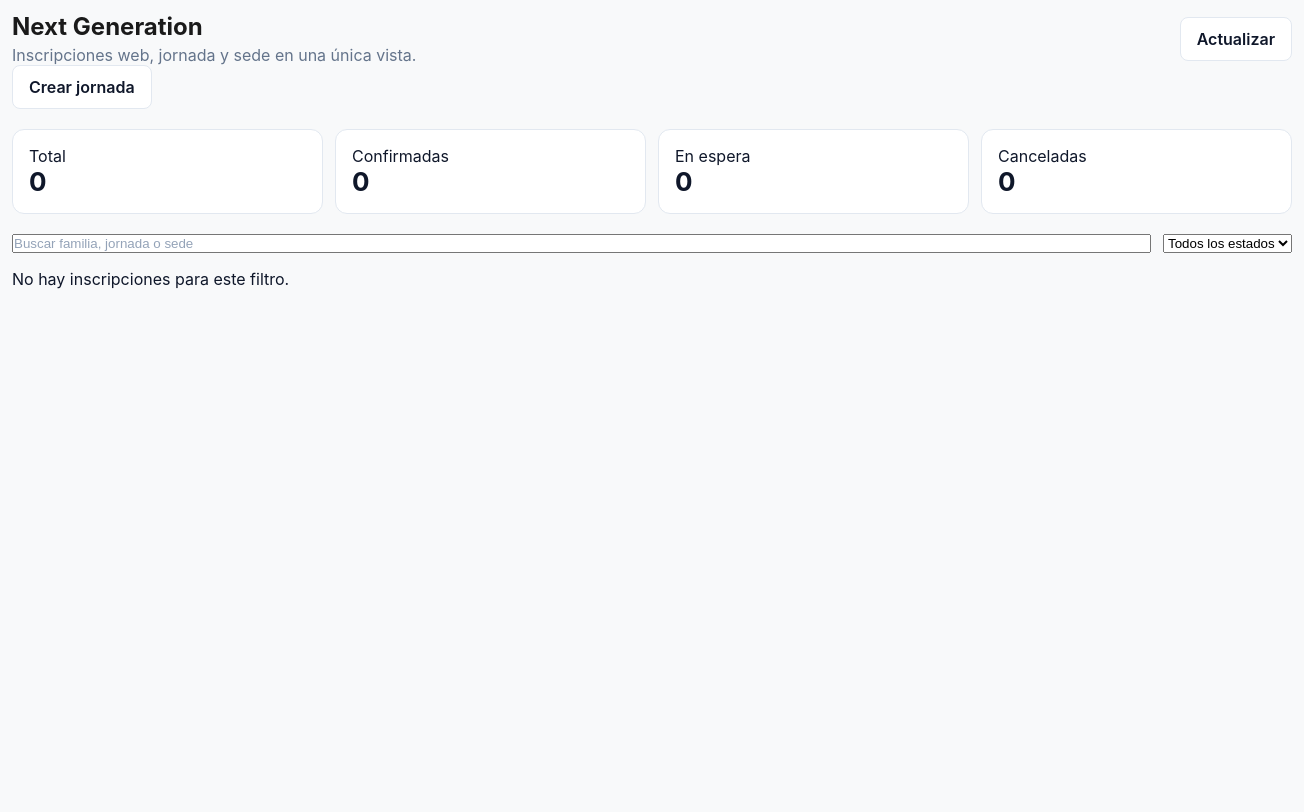
Test: error o respuesta sin ID conserva inputs sin falso éxito
Expected: the button "Actualizar" is shown, x1=1180 y1=16 x2=1292 y2=60
Click the button "Crear jornada". click: (82, 87)
box: x1=12 y1=65 x2=152 y2=109
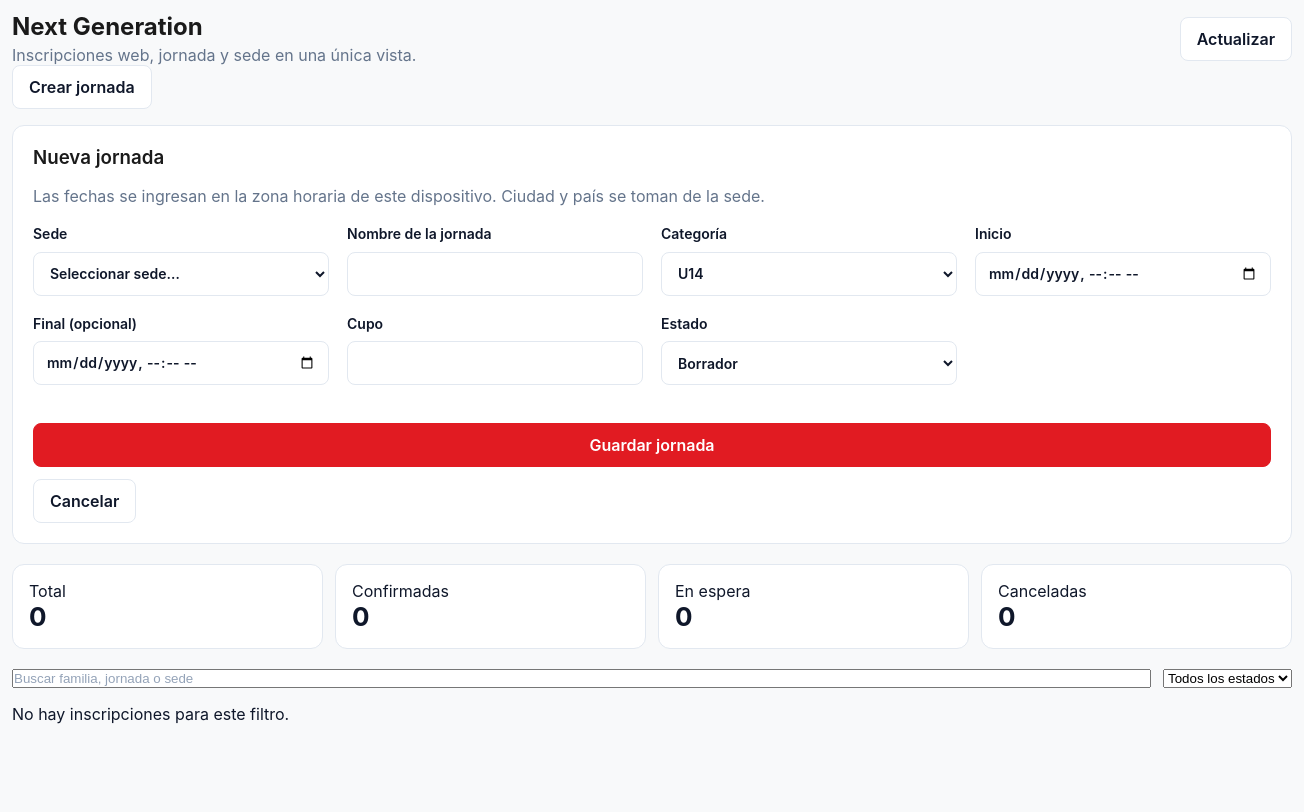
Select "Club Uno" in the dropdown labelled "Sede". click: (181, 274)
box: x1=33 y1=252 x2=329 y2=296
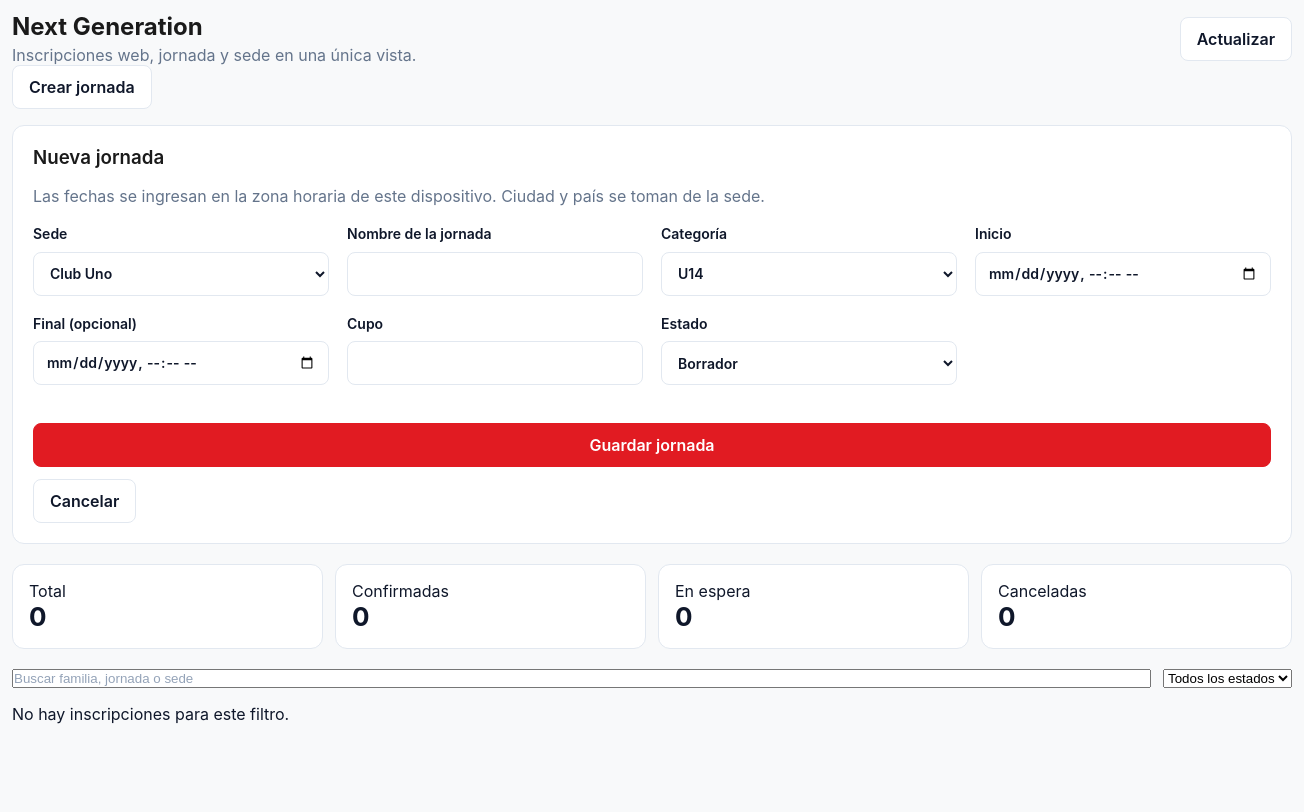
Type "Jornada QA" into the field labelled "Nombre de la jornada". click: (495, 274)
box: x1=347 y1=252 x2=643 y2=296
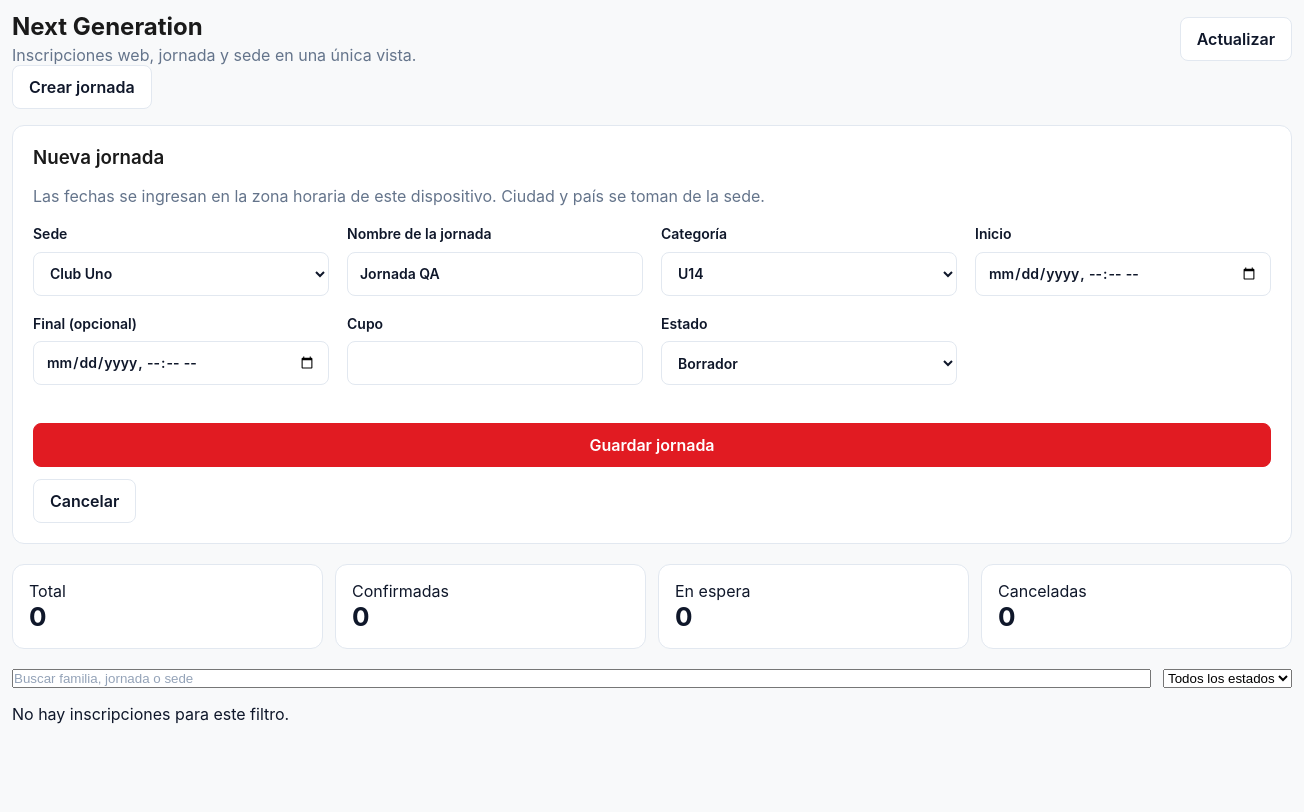
Type "2026-11-10T14:00" into the field labelled "Inicio". click: (1123, 274)
box: x1=975 y1=252 x2=1271 y2=296
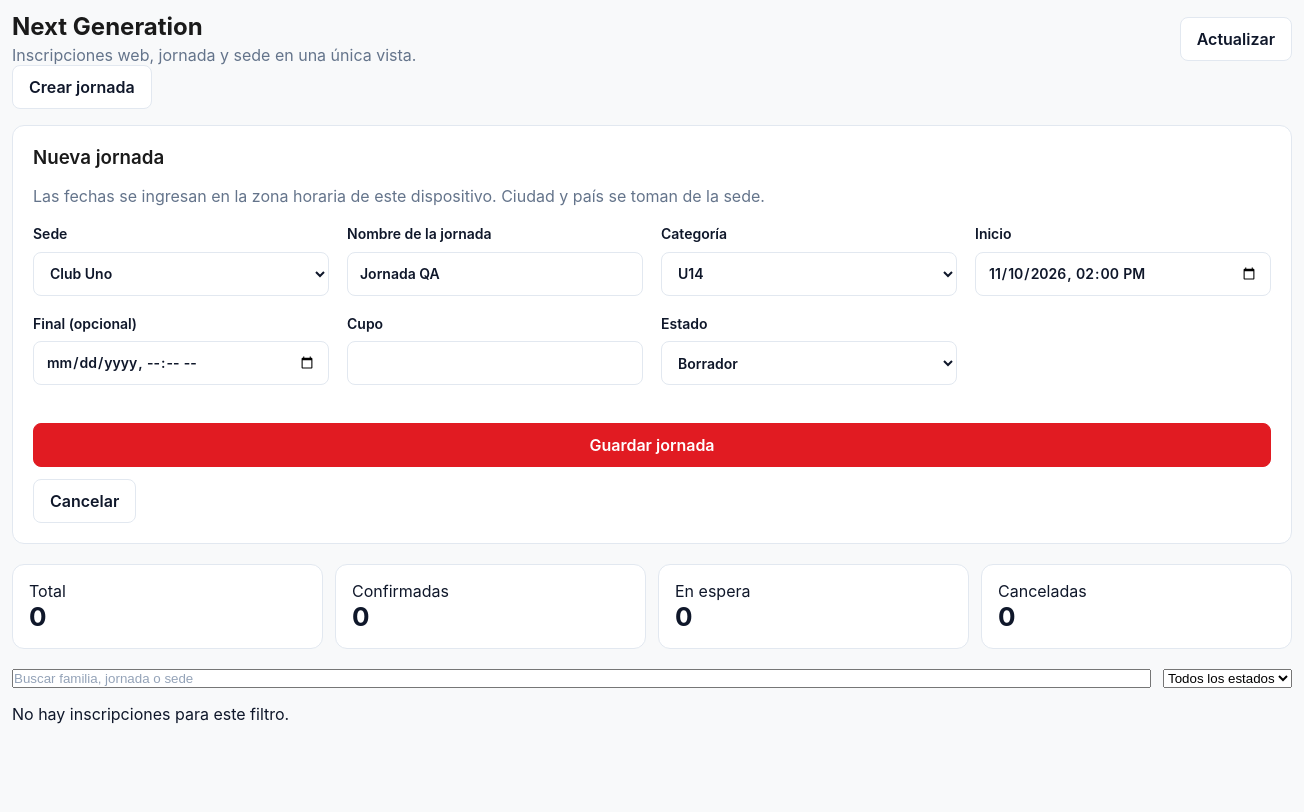
Type "24" into the number field labelled "Cupo". click: (495, 363)
box: x1=347 y1=341 x2=643 y2=385
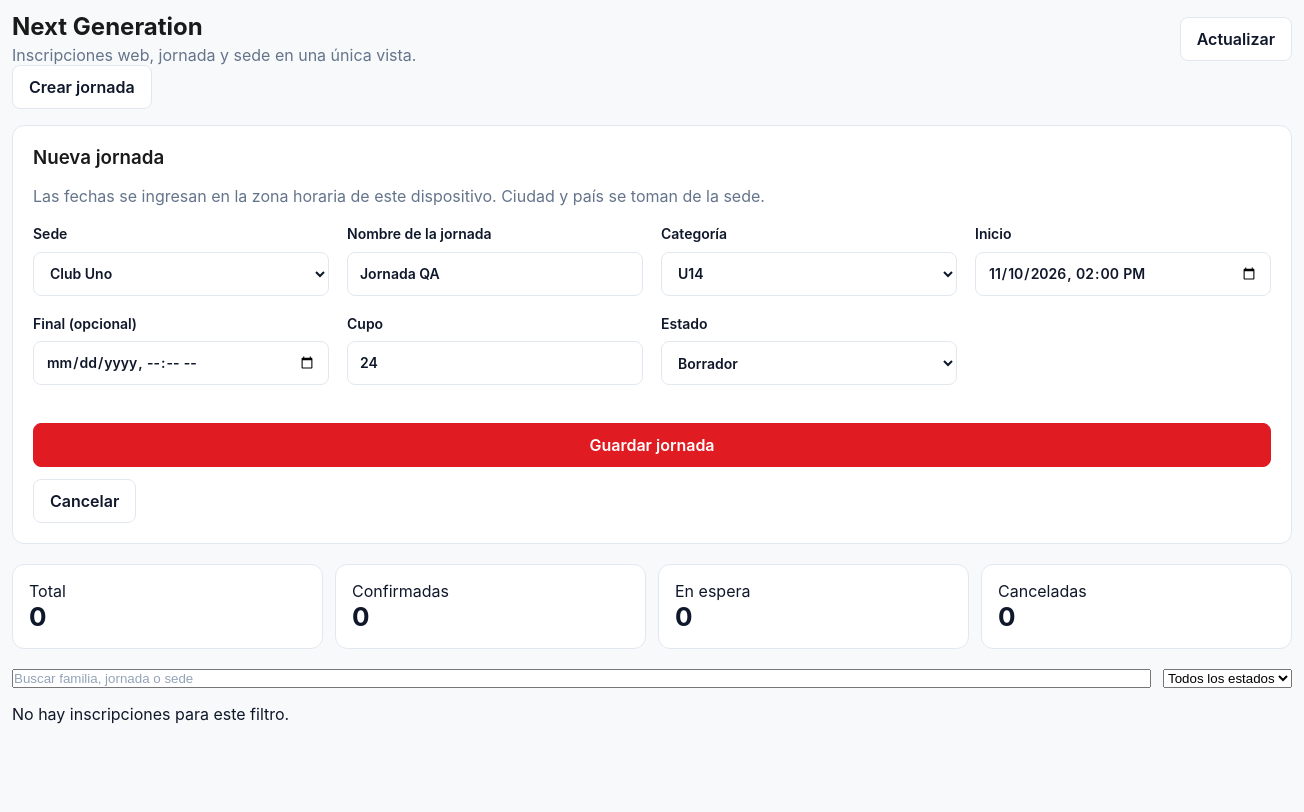
Submit the form, box x1=12 y1=125 x2=1292 y2=544
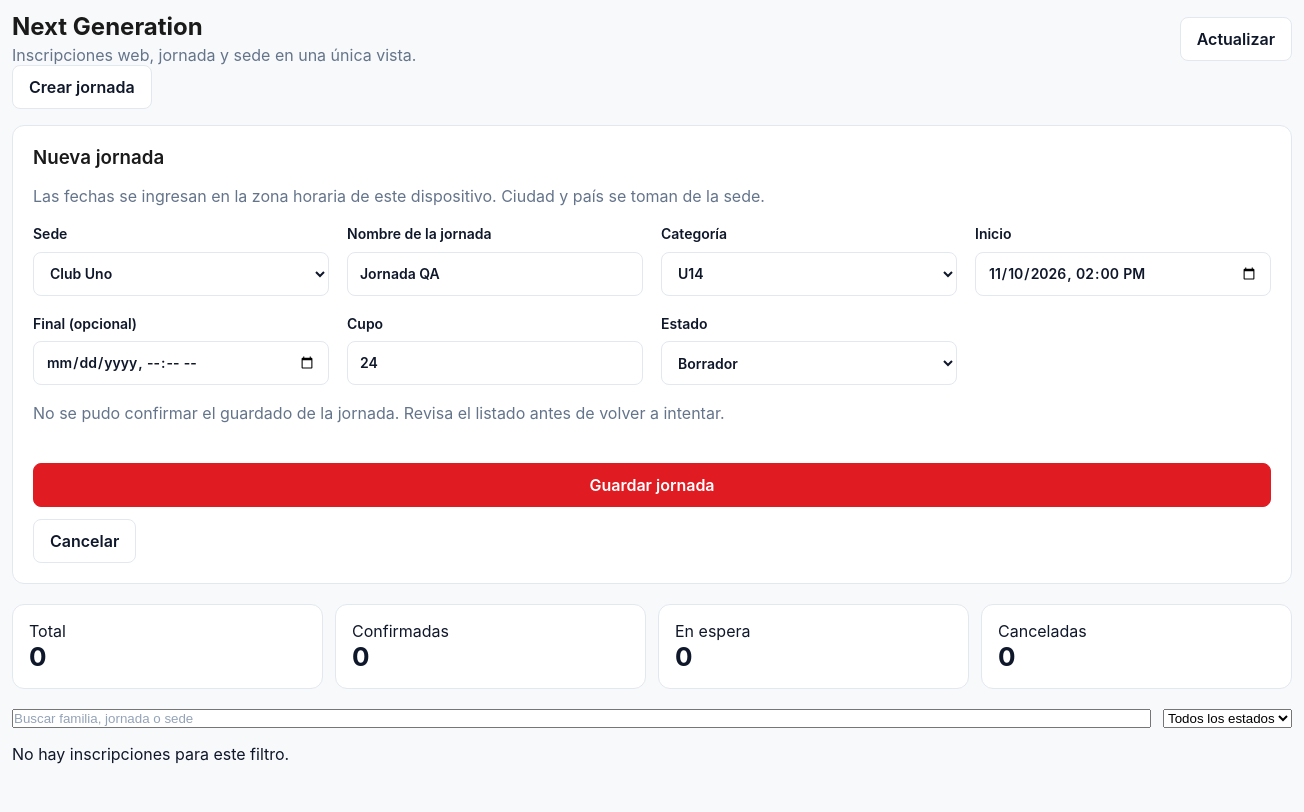
Expected: the message is shown, x1=33 y1=403 x2=724 y2=423
